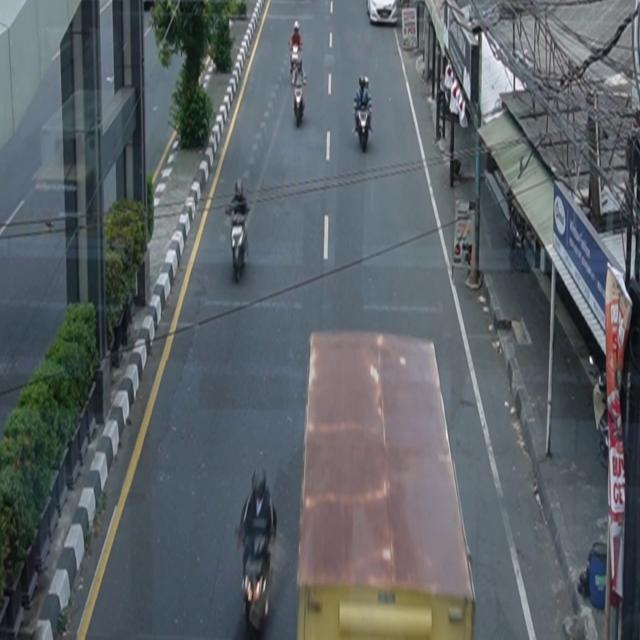bus: (297, 329, 477, 640)
car: (367, 1, 398, 26)
